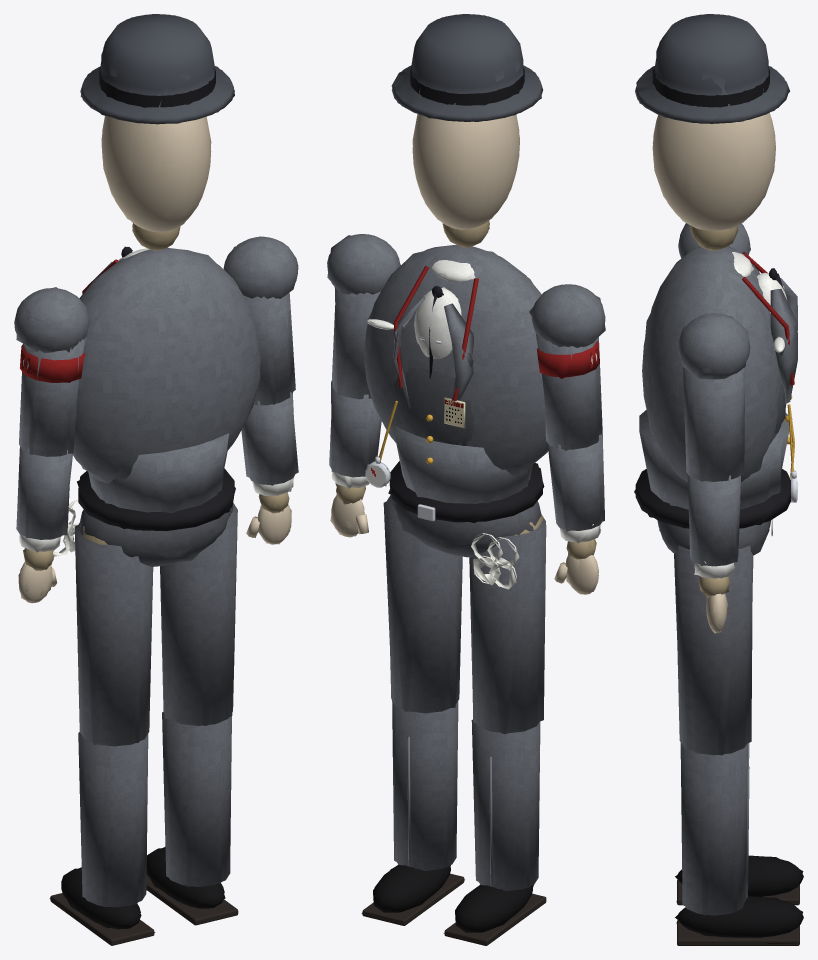
The model's file is c_collector.glb.
3 views of the same model, side by side, from view 1: azimuth 30°, elevation 25°; view 2: azimuth 150°, elevation 25°; view 3: azimuth 270°, elevation 25° (orthographic). The views are drawn at different scales.
Visible parts, largest first — view 1: part_spine, part_head, part_legL, part_kneeR, part_kneeL, part_legR, part_armL, part_spine__lod, part_body, part_head__lod, part_arm, part_foreL (+12 smaller); view 2: part_spine, part_head, part_kneeL, part_kneeR, part_legL, part_legR, part_spine__lod, part_armL, part_body, part_head__lod, part_arm, part_foreL (+12 smaller); view 3: part_spine, part_head, part_kneeR, part_legR, part_arm, part_head__lod, part_spine__lod, part_foreR, part_legR__lod, part_body, part_kneeR__lod, part_arm__lod (+6 smaller).
Boxes of the visible parts, x1,y1,x2,y2 form: part_spine: (73,247,260,512); part_head: (80,14,234,250); part_legL: (75,523,153,746); part_kneeR: (146,716,238,925); part_kneeL: (50,734,154,945); part_legR: (160,503,237,725); part_armL: (14,288,89,456); part_spine__lod: (76,246,260,513); part_body: (56,468,234,566); part_head__lod: (80,14,234,250); part_arm: (223,236,298,405); part_foreL: (16,446,72,570); part_spine: (364,245,547,503); part_head: (392,14,542,247); part_kneeL: (444,721,546,945); part_kneeR: (362,701,464,925); part_legL: (469,514,545,733); part_legR: (386,495,462,713); part_spine__lod: (364,246,548,503); part_armL: (531,284,605,449); part_body: (389,461,542,587); part_head__lod: (391,14,541,247); part_arm: (327,234,400,399); part_foreL: (547,442,602,559); part_spine: (639,246,797,509); part_head: (635,14,787,250); part_kneeR: (677,742,803,945); part_legR: (675,545,753,755); part_arm: (678,313,750,481); part_head__lod: (636,14,789,250); part_spine__lod: (645,246,794,506); part_foreR: (687,474,740,596); part_legR__lod: (679,548,752,755); part_body: (635,469,797,554); part_kneeR__lod: (675,744,802,945); part_arm__lod: (677,313,748,481).
Bounding box in the file's own units: 0.6578 × 2.04 × 0.3527.
20 materials, 6 textured.
